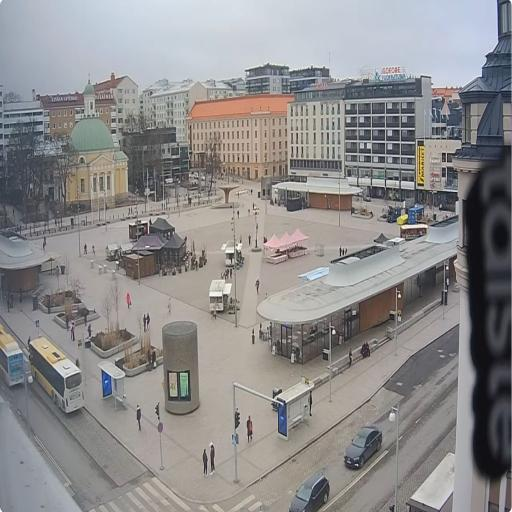bus: (25, 334, 87, 417), (1, 321, 25, 390)
car: (342, 423, 384, 472), (288, 468, 330, 509), (362, 193, 372, 203), (208, 176, 218, 184), (194, 172, 200, 181), (201, 175, 206, 182)
